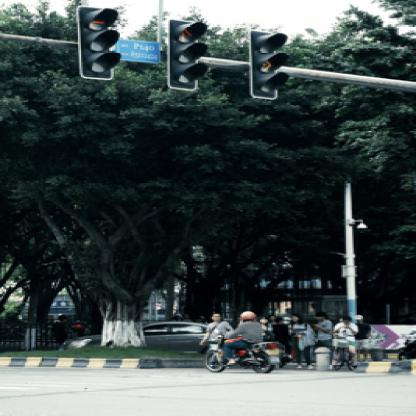trafficlight: (74, 3, 118, 76), (164, 15, 204, 90), (248, 28, 286, 100)
